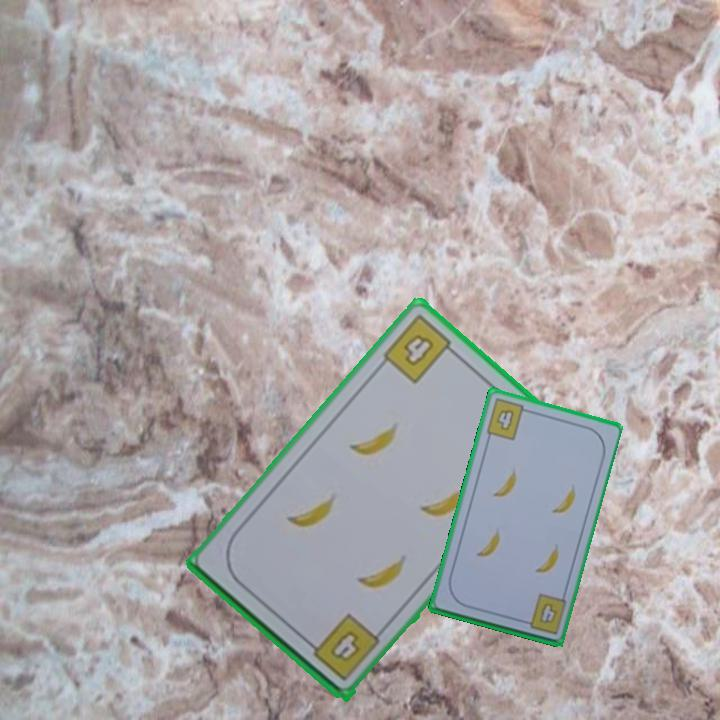4b: (379, 310, 461, 387), (482, 395, 533, 443), (518, 590, 569, 637), (330, 627, 363, 661)
